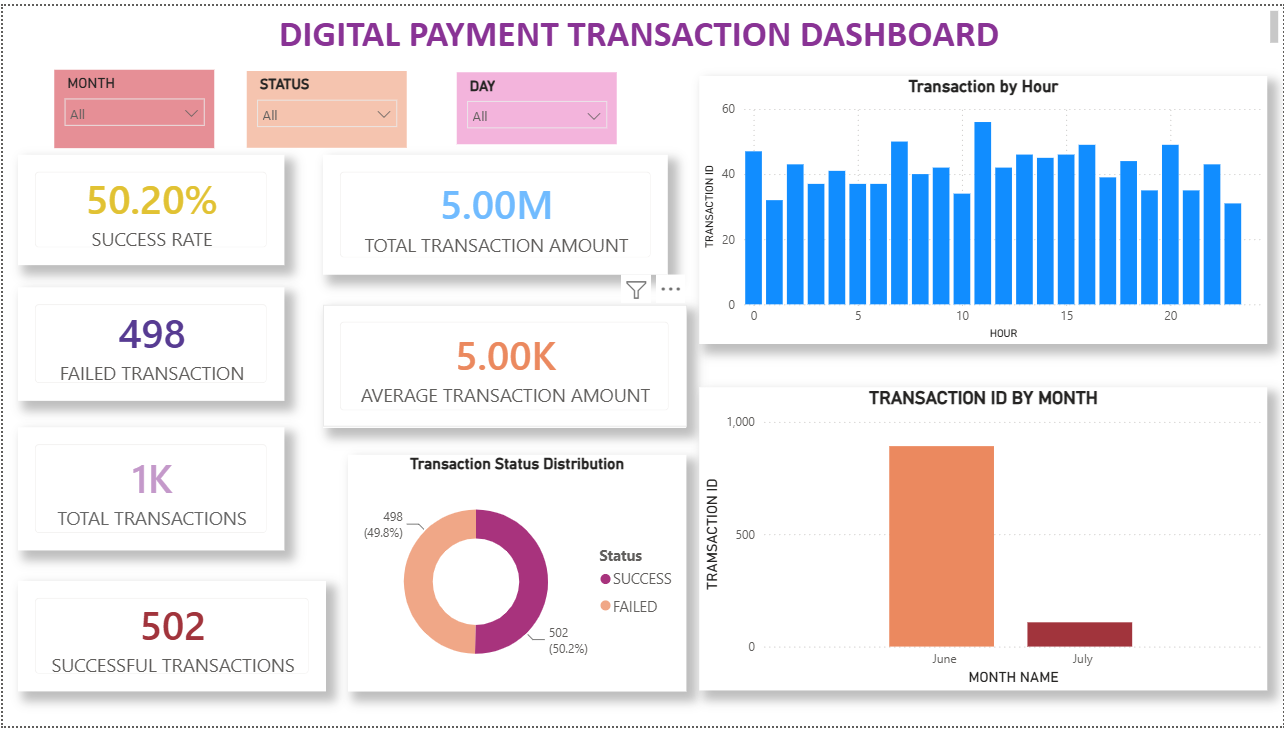

What the dashboard file says about the page in this screenshot:
{"tool":"powerbi","page":{"name":"DIGITAL PAYMENTS","canvas":[1280,720],"ordinal":1},"visuals":[{"type":"textbox","box":[0,0,1280,48.3],"z":0},{"type":"cardVisual","fields":{"Data":["Table.TOTAL TRANSACTION AMOUNT"]},"box":[320,148.3,345,120],"z":1000},{"type":"cardVisual","fields":{"Data":["Table.Total Transcations"]},"box":[15,421.7,266.7,123.3],"z":2000},{"type":"cardVisual","fields":{"Data":["Table.AVERAGE TRANSACTION AMOUNT"]},"box":[320,298.3,363.3,123.3],"z":3000},{"type":"cardVisual","fields":{"Data":["Table.SUCCESSFUL TRANSACTIONS"]},"box":[15,575,308.3,110],"z":4000},{"type":"cardVisual","fields":{"Data":["Table.Failed Transactions"]},"box":[15,281.7,266.7,113.3],"z":5000},{"type":"cardVisual","fields":{"Data":["Table.Success Rate"]},"box":[15,148.3,266.7,110],"z":6000},{"type":"donutChart","title":" Transaction Status Distribution","fields":{"Category":["transactions (2).Status"],"Y":["CountNonNull(transactions (2).Transaction ID)"]},"box":[345,448.3,338.3,236.7],"z":7000},{"type":"clusteredColumnChart","title":"Transaction by Hour","fields":{"Category":["transactions (2).Hour"],"Y":["CountNonNull(transactions (2).Transaction ID)"]},"box":[696.7,70,568.3,268.3],"z":8000},{"type":"slicer","fields":{"Values":["transactions (2).Month Name"]},"box":[51.7,63.3,160,78.3],"z":9000},{"type":"slicer","fields":{"Values":["transactions (2).Status"]},"box":[243.3,65,160,76.7],"z":10000},{"type":"slicer","fields":{"Values":["transactions (2).Day"]},"box":[453.3,66.7,160,71.7],"z":11000},{"type":"clusteredColumnChart","title":"TRANSACTION ID BY MONTH ","fields":{"Category":["transactions (2).Month Name"],"Y":["CountNonNull(transactions (2).Transaction ID)"]},"box":[696.7,381.7,568.3,303.3],"z":12000}]}

Visuals, with their boxes in screenshot pixels (x1, y1, x2, y2), scaled from the page's 1280x720 canvas onto the 1287x730 screenshot:
textbox: <bbox>0, 0, 1286, 49</bbox>
cardVisual - Table.TOTAL TRANSACTION AMOUNT: <bbox>322, 150, 669, 272</bbox>
cardVisual - Table.Total Transcations: <bbox>15, 428, 283, 553</bbox>
cardVisual - Table.AVERAGE TRANSACTION AMOUNT: <bbox>322, 302, 687, 427</bbox>
cardVisual - Table.SUCCESSFUL TRANSACTIONS: <bbox>15, 583, 325, 695</bbox>
cardVisual - Table.Failed Transactions: <bbox>15, 286, 283, 400</bbox>
cardVisual - Table.Success Rate: <bbox>15, 150, 283, 262</bbox>
" Transaction Status Distribution" donutChart: <bbox>347, 455, 687, 695</bbox>
"Transaction by Hour" clusteredColumnChart: <bbox>701, 71, 1272, 343</bbox>
slicer - transactions (2).Month Name: <bbox>52, 64, 213, 144</bbox>
slicer - transactions (2).Status: <bbox>245, 66, 406, 144</bbox>
slicer - transactions (2).Day: <bbox>456, 68, 617, 140</bbox>
"TRANSACTION ID BY MONTH " clusteredColumnChart: <bbox>701, 387, 1272, 695</bbox>
